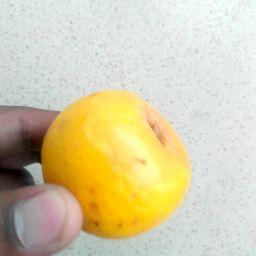Unripe: (46, 91, 193, 235)
